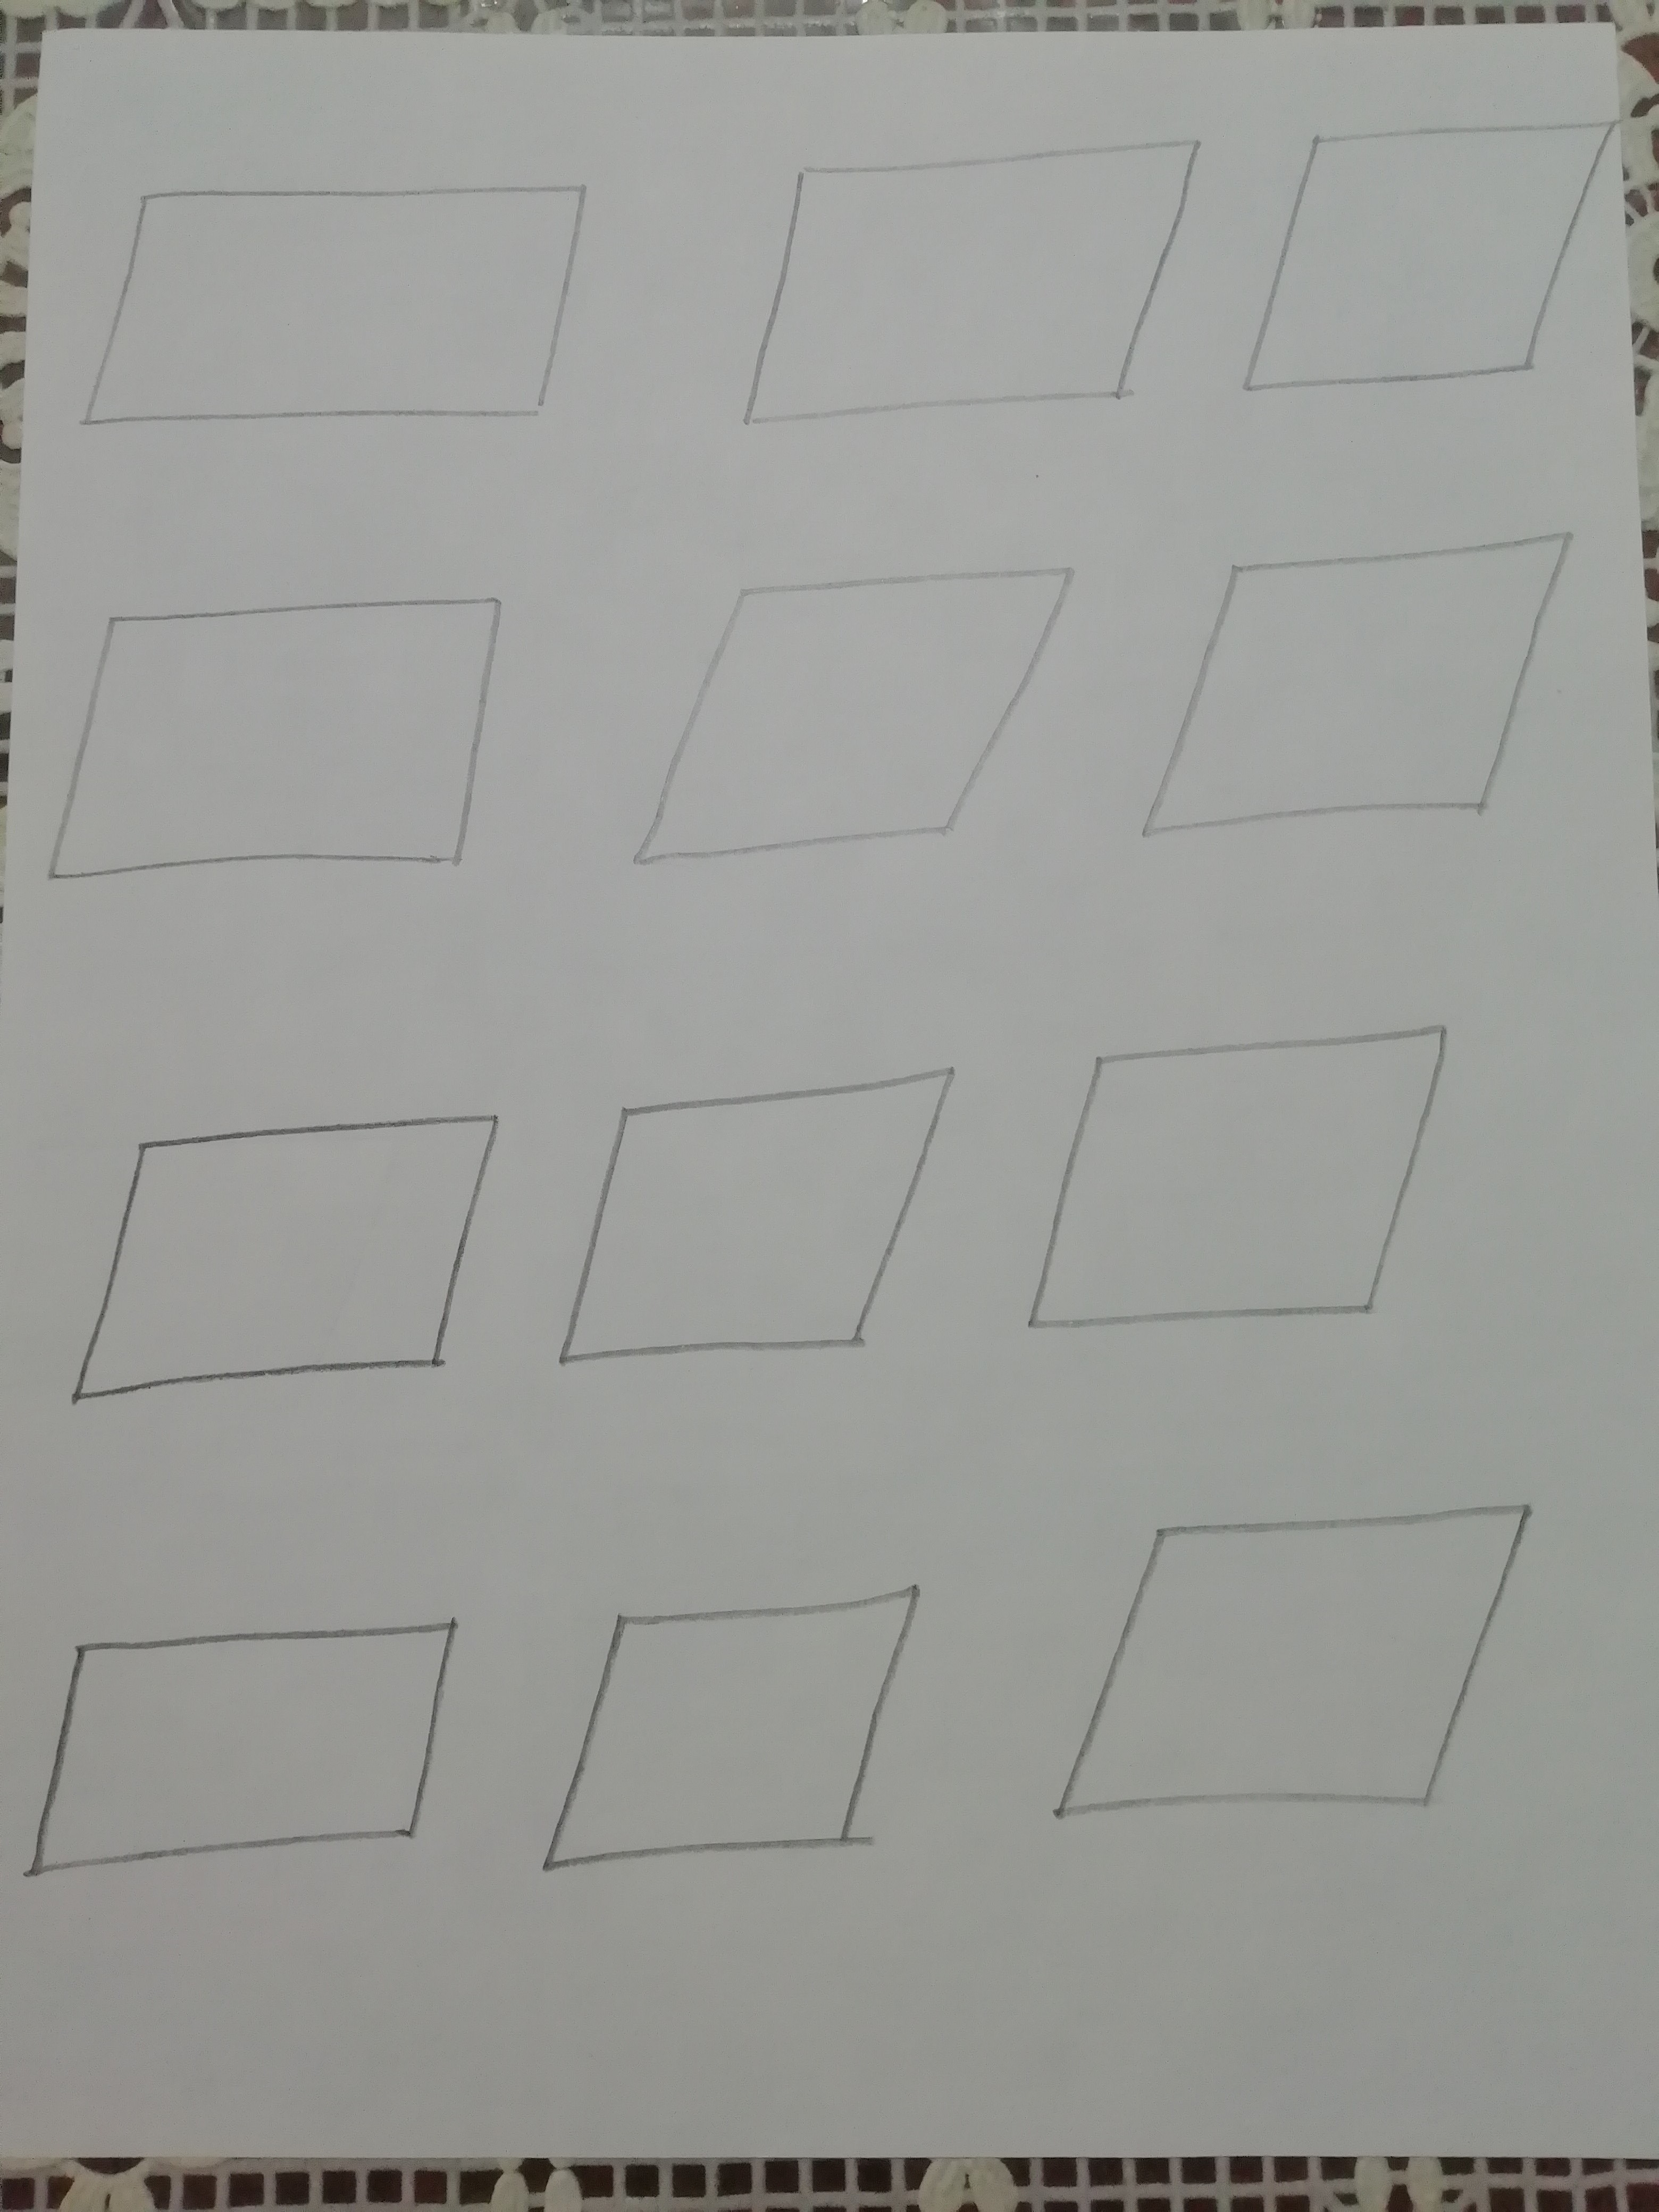scan: (1030, 1468, 1572, 1874), (40, 141, 622, 479), (1002, 1007, 1486, 1372), (612, 545, 1091, 907), (37, 564, 533, 904), (1122, 521, 1593, 873), (718, 124, 1222, 446), (519, 1545, 969, 1904), (33, 1089, 512, 1414), (544, 1045, 976, 1404), (9, 1599, 481, 1911), (1232, 110, 1622, 425)
